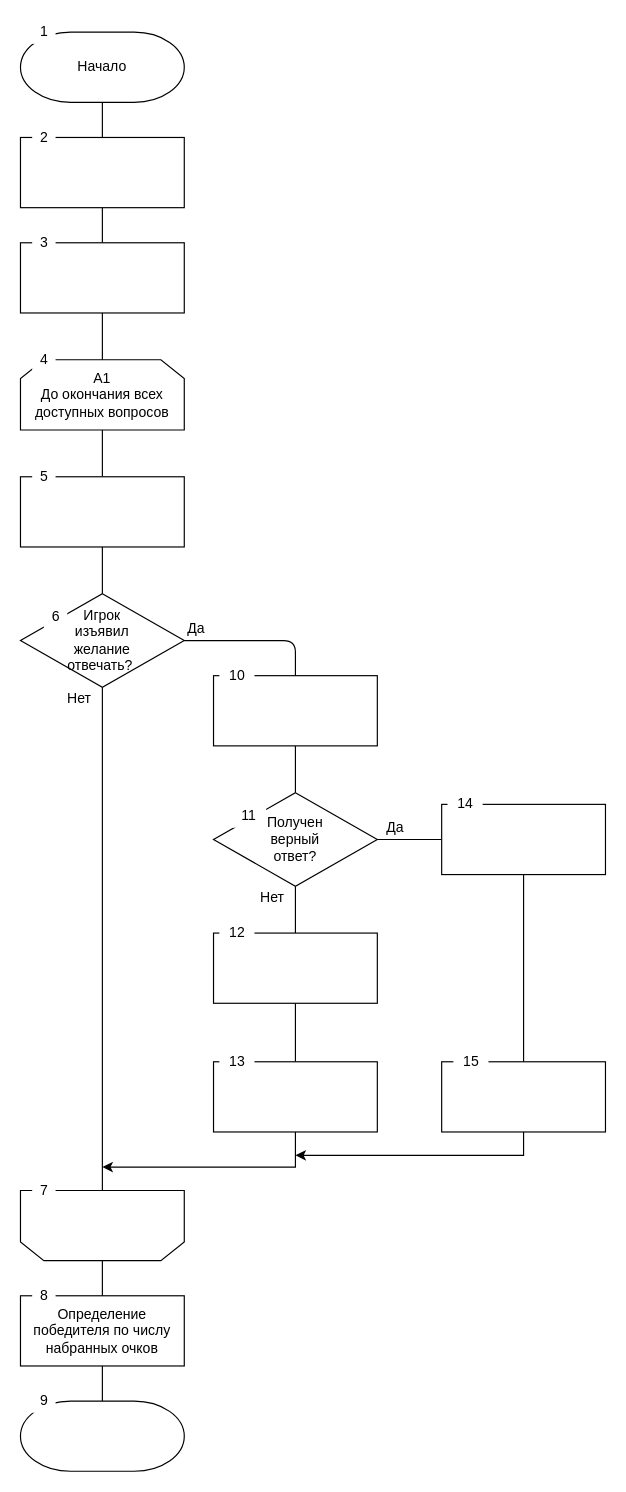
This 626x1492 diagram has some shape labels left out. Here are the shapes that lost their labels. From the top down, the box of each, then its label:
(19, 136, 184, 208): Получение информации о списке доступных вопросов
(19, 242, 184, 313): Передача права выбора вопроса игроку
(19, 476, 184, 547): Ожидание выбора вопроса игроком
(212, 675, 377, 746): Ожидание ответа на вопрос игроком
(441, 803, 605, 875): Подтверждение правильности ответа организатором
(212, 932, 377, 1003): Подтверждение неправильности ответа организатором
(212, 1061, 377, 1132): Вычитание очков у игрока
(441, 1061, 605, 1132): Начисление очков игроку
(19, 1189, 184, 1261): А1
(19, 1400, 184, 1471): Конец
